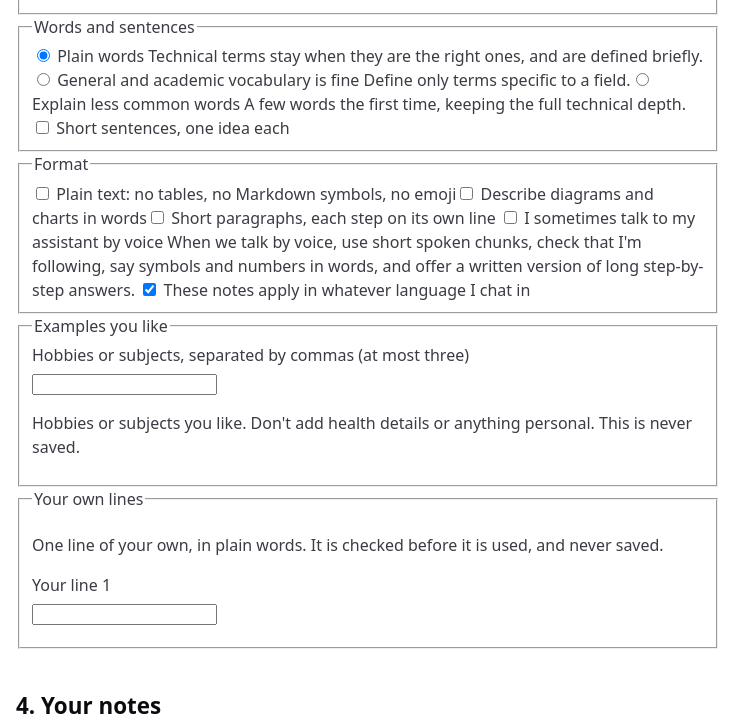
it: steps 1 to 3 › writes interests and the person's own line, and refuses a line with a web address or a number, saying why
This screenshot has width=735, height=726.
(page scrolled)
Type "chess, cooking" into the field labelled "Hobbies or subjects, separated by commas (at most three)".
click(124, 385); type("chess, cooking")  # box [32, 374, 217, 395]
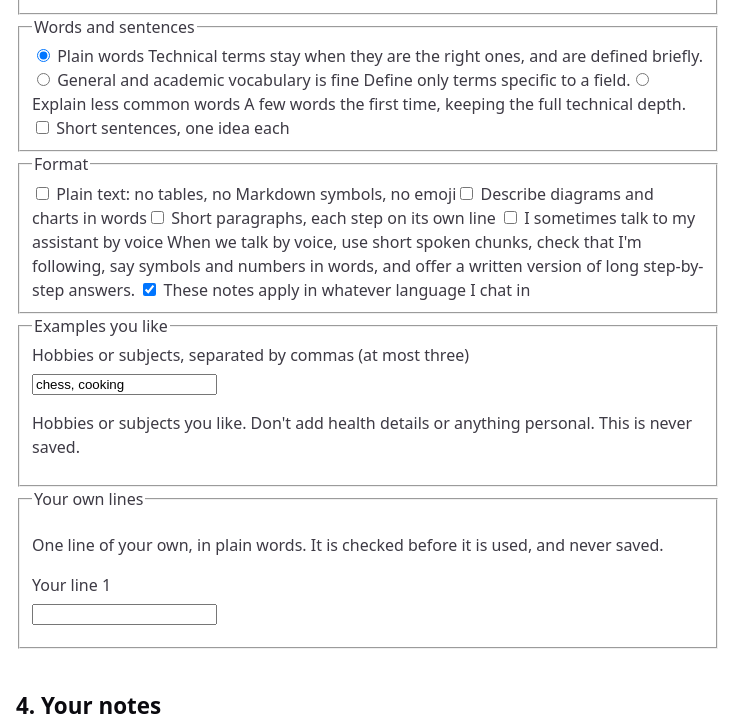
Type "Use metric units" into the field with id "custom-0".
click(124, 614); type("Use metric units")  # box [32, 604, 217, 625]
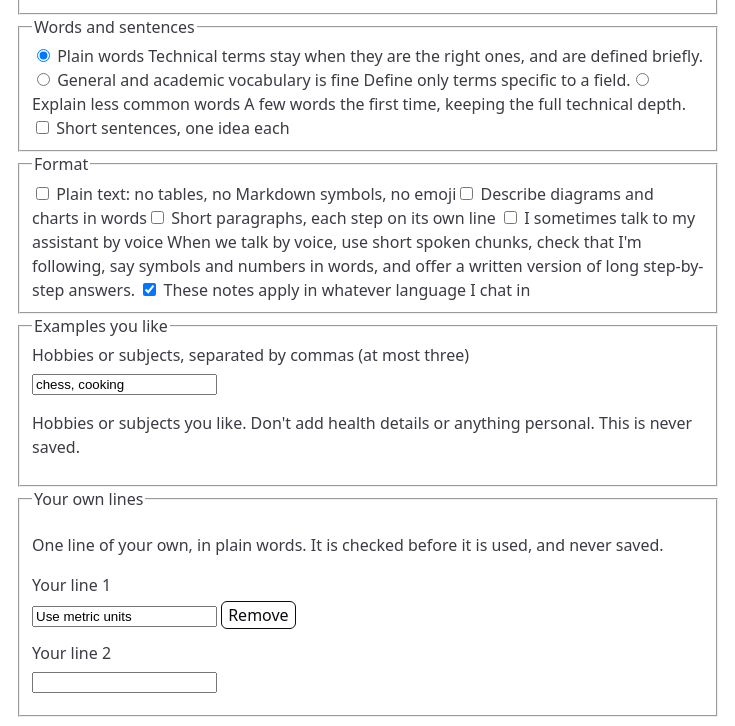
Replace the text in the field with id "custom-0" with "See https://example.org for 3 tips" at (124, 616), box [32, 606, 217, 627]
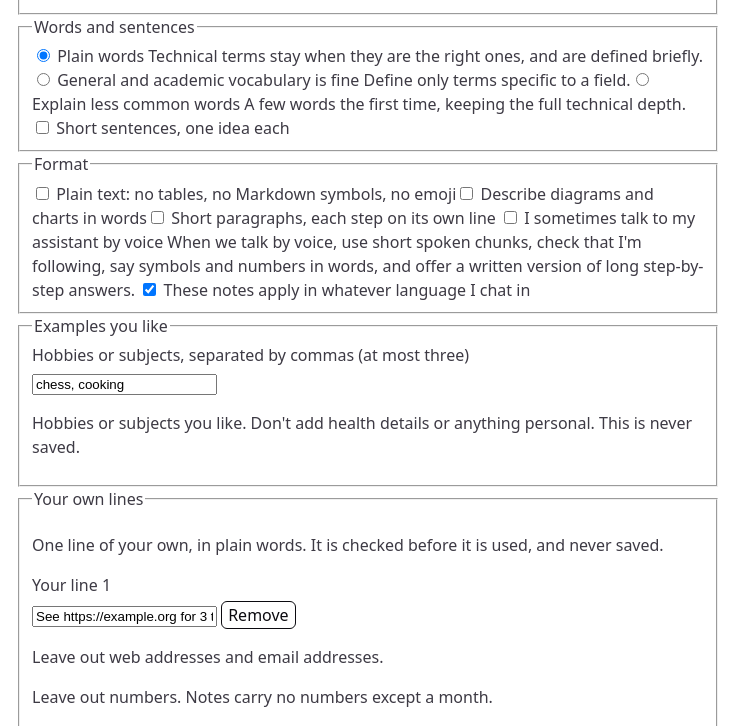
Check: the element with id "notes-text" does not show "example.org"
Check: the text "Leave out web addresses and email addresses." is shown, box [32, 646, 384, 668]
Check: the text "Leave out numbers." is shown, box [32, 686, 493, 708]
Replace the text in the field labelled "Hobbies or subjects, separated by commas (at most three)" with "my level is low" at (124, 385), box [32, 374, 217, 395]
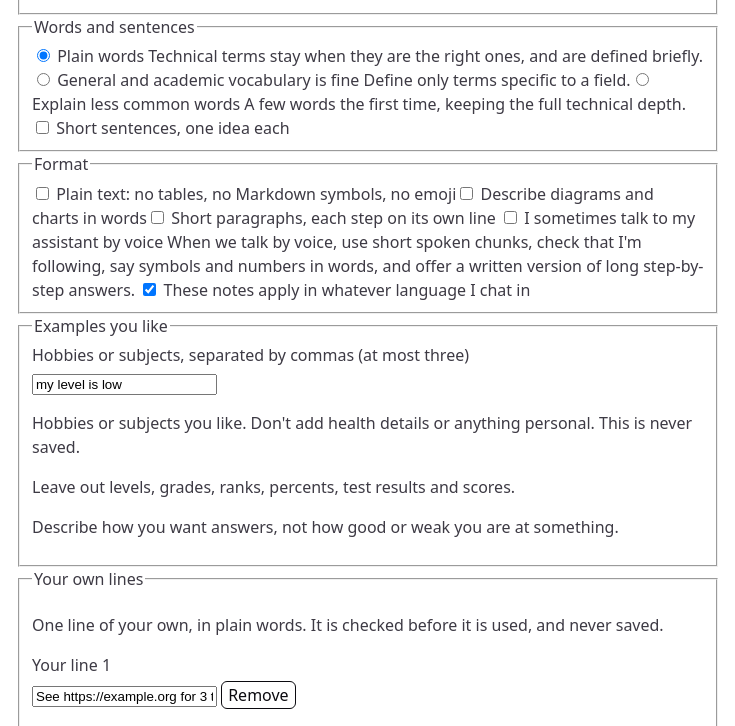
Check: the element with id "notes-text" does not show "level is low"
Check: the text "Describe how you want answers" is shown, box [32, 516, 619, 538]
